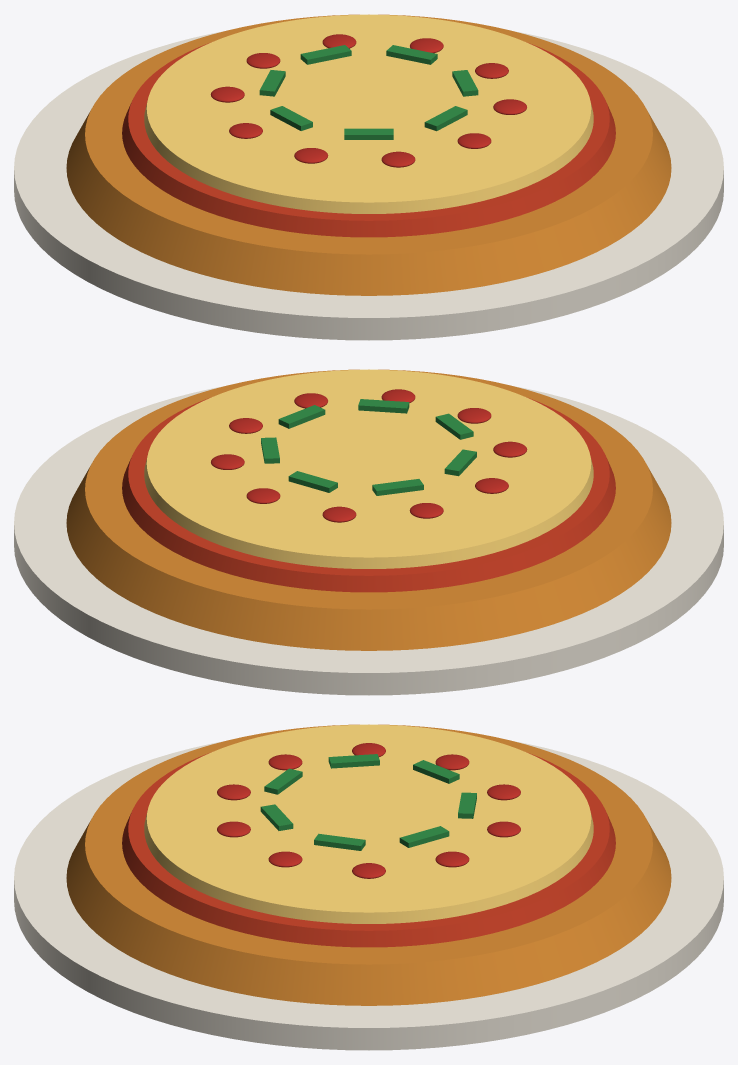
The model's file is pizza.glb.
3 views of the same model, one above another, from view 1: azimuth 30°, elevation 25°; view 2: azimuth 150°, elevation 25°; view 3: azimuth 270°, elevation 25° (orthographic).
Size of the model in its own units: 2.3 by 0.359 by 2.3.
